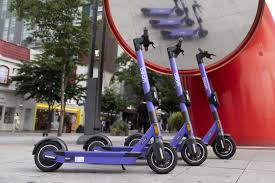kick_board: (31, 26, 177, 172)
kick_body: (66, 150, 136, 164)
kick_neck: (138, 52, 161, 135), (170, 60, 193, 133), (198, 65, 224, 127)
kick_wheel: (34, 137, 63, 170), (148, 142, 176, 173), (181, 139, 207, 166), (212, 135, 236, 158), (83, 135, 110, 151)
